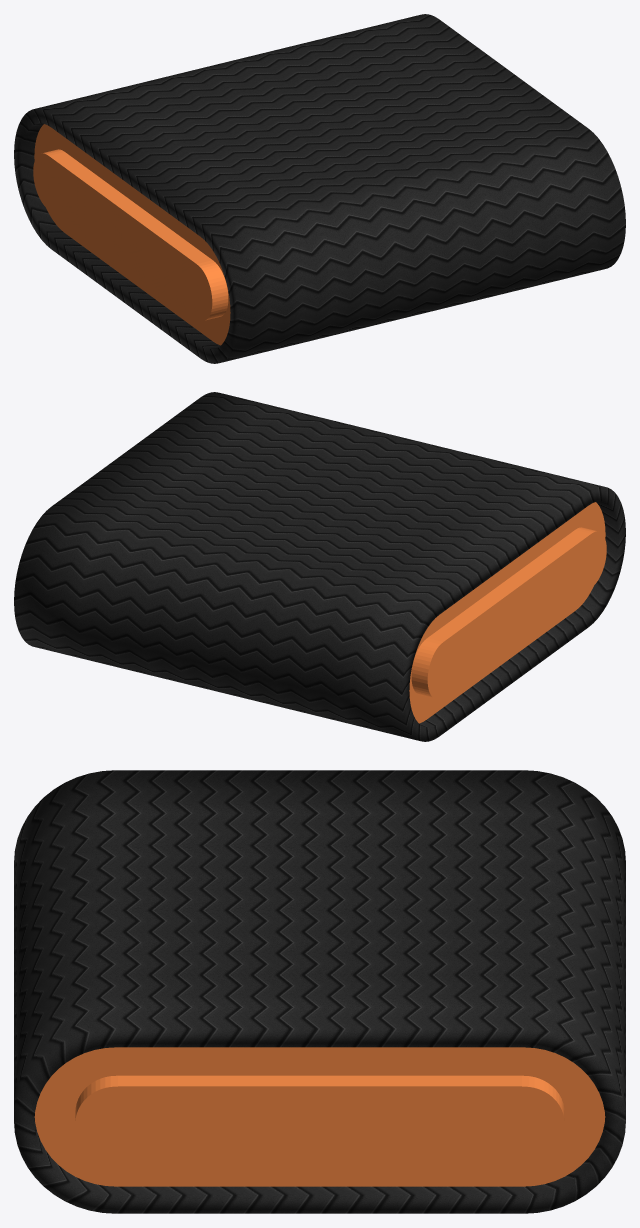
Rendered from Conveyor-3x3.fbx.
The picture shows the model from 3 angles, top to bottom: view 1: azimuth 30°, elevation 25°; view 2: azimuth 150°, elevation 25°; view 3: azimuth 270°, elevation 25°; orthographic projection. The views are drawn at different scales.
Visible parts, largest first — view 1: Conveyor; view 2: Conveyor; view 3: Conveyor.
Boxes of the visible parts, x1,y1,x2,y2 form: Conveyor: (14, 14, 625, 363); Conveyor: (14, 392, 625, 741); Conveyor: (14, 770, 625, 1213).
Size of the model in its own units: 3.05 by 1 by 3.
Materials: 2 (1 with a texture image).
